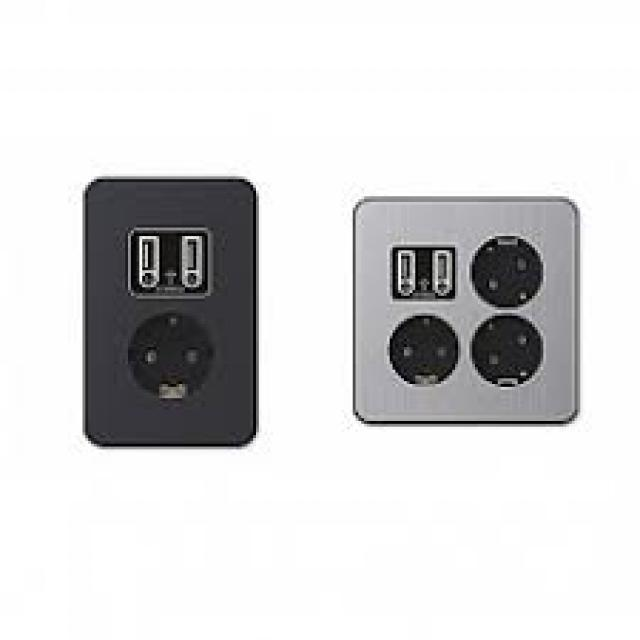typeb: (324, 164, 609, 467), (73, 159, 296, 494), (100, 158, 165, 406)
